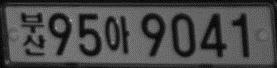0: (170, 12, 196, 58)
1: (230, 12, 255, 58)
4: (199, 13, 227, 57)
5: (77, 12, 102, 57)
9: (140, 12, 166, 58), (47, 11, 72, 55)
부산_V: (19, 11, 46, 56)
아: (104, 15, 130, 54)
